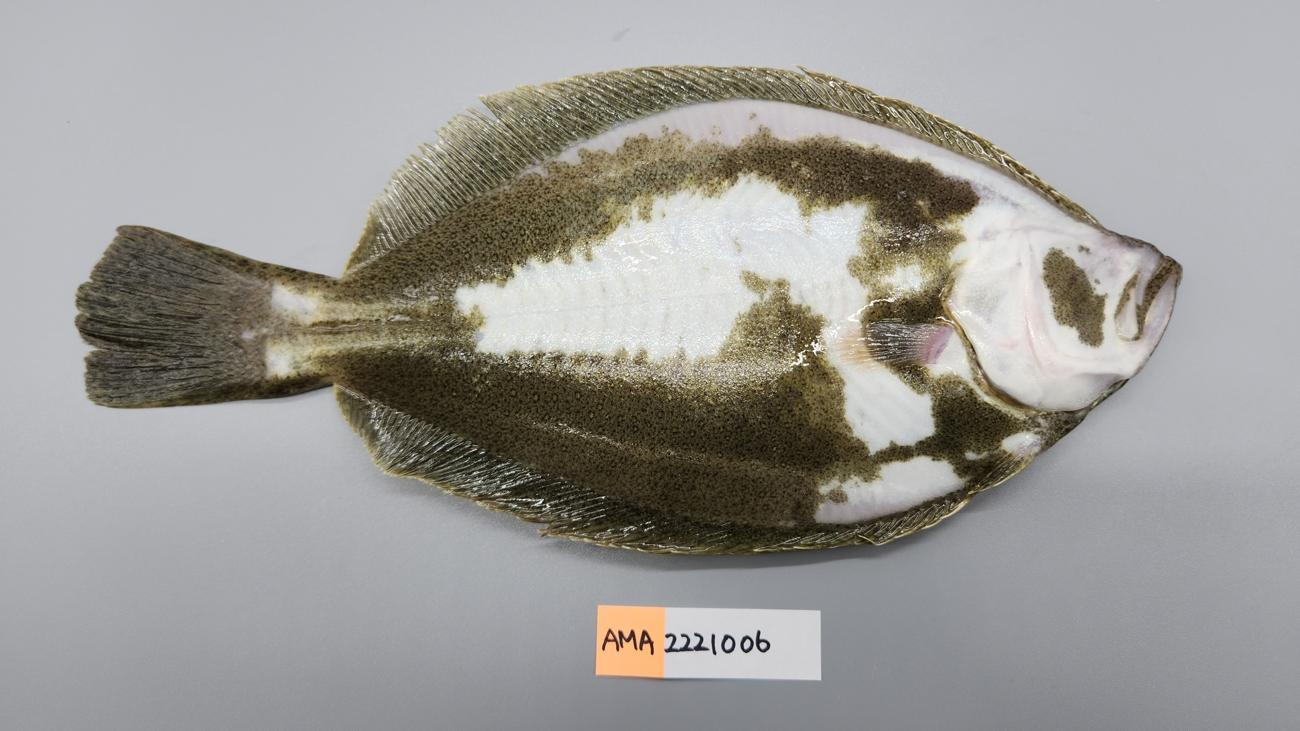MAFAH: (510, 494, 602, 544)
MAOUY: (79, 61, 1182, 554)
